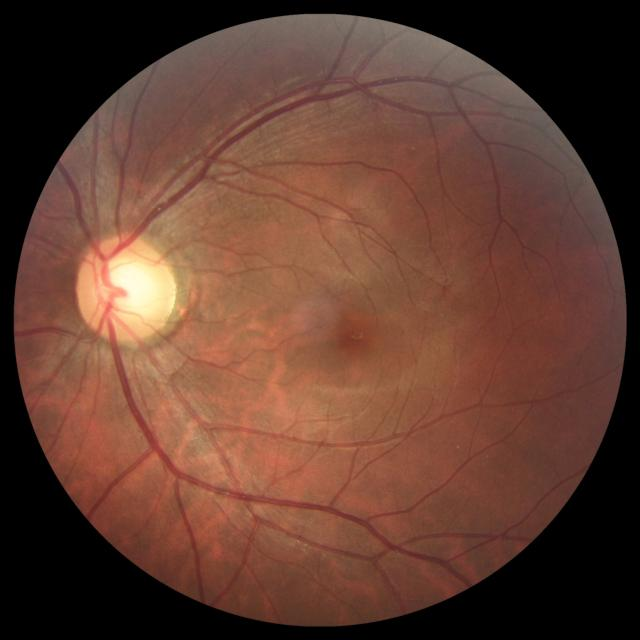OC: (98, 254, 163, 322)
OD: (75, 236, 176, 343)
